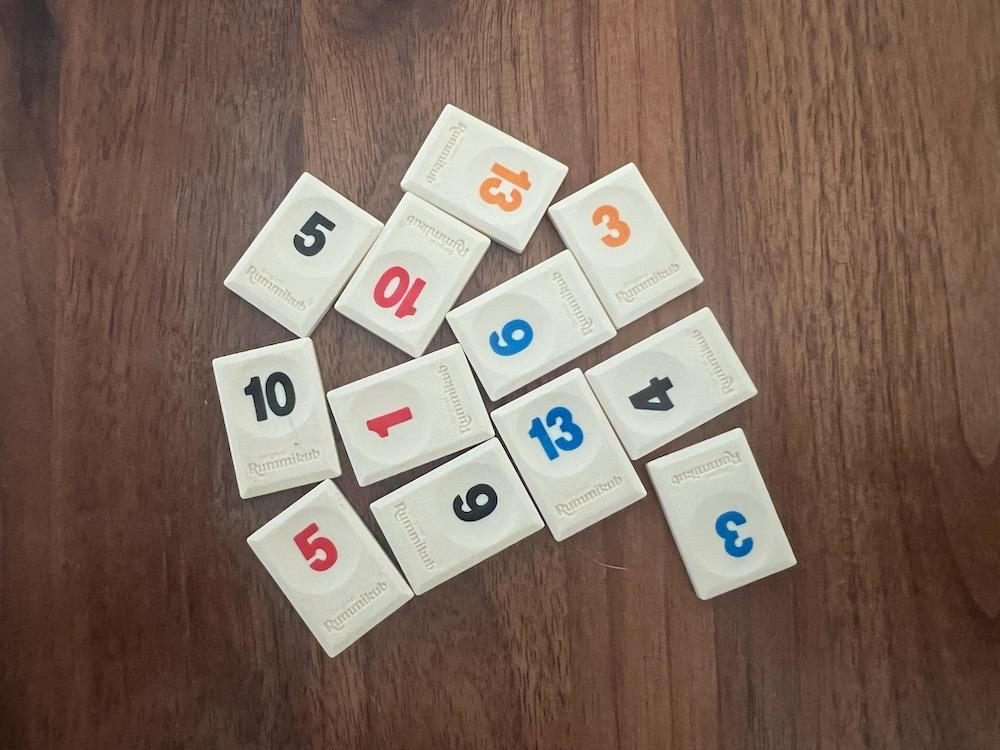black_10: (214, 338, 342, 498)
black_4: (586, 307, 756, 459)
black_5: (225, 172, 383, 336)
black_9: (371, 439, 543, 594)
blue_13: (492, 371, 646, 541)
blue_3: (646, 428, 797, 600)
blue_6: (447, 250, 615, 400)
orange_13: (400, 104, 568, 252)
orange_3: (549, 164, 703, 328)
red_1: (328, 344, 494, 486)
red_10: (337, 193, 490, 357)
red_5: (248, 480, 414, 656)
